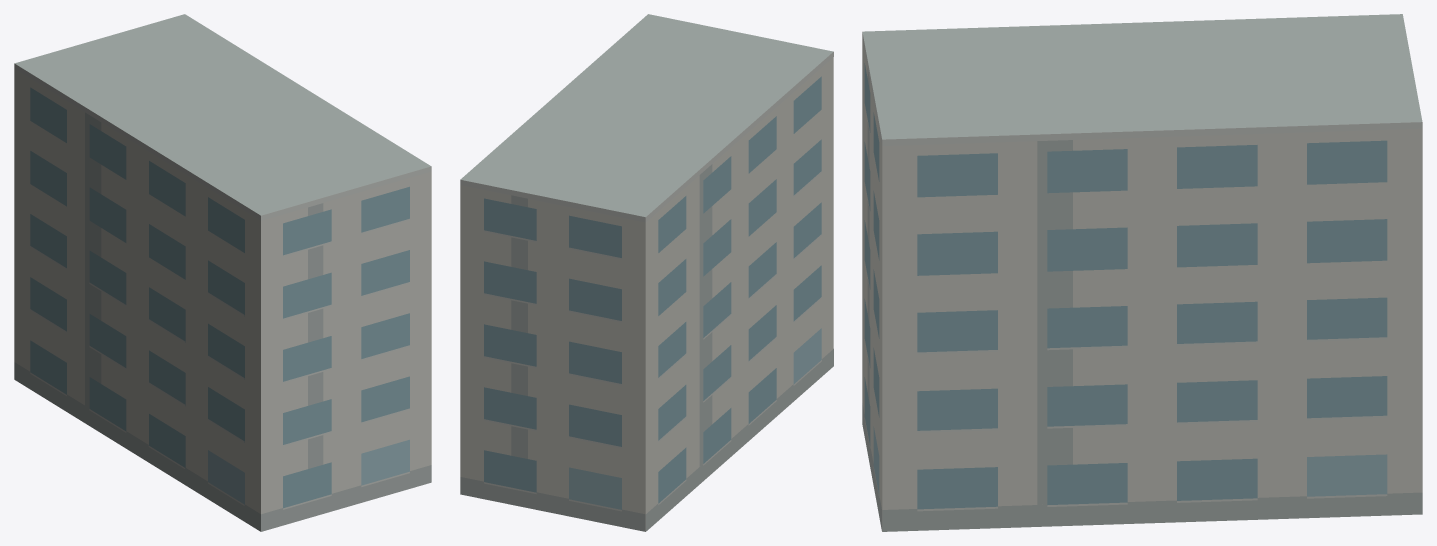
File: survey-upis-32620389.glb
3 views of the same model, side by side, from view 1: azimuth 30°, elevation 25°; view 2: azimuth 150°, elevation 25°; view 3: azimuth 270°, elevation 25° (orthographic). The views are drawn at different scales.
Visible parts, largest first — view 1: survey-upis-32620389.tmp; view 2: survey-upis-32620389.tmp; view 3: survey-upis-32620389.tmp.
Part boxes in pixels (x1=…): survey-upis-32620389.tmp: x1=14, y1=14, x2=431, y2=531; survey-upis-32620389.tmp: x1=460, y1=14, x2=833, y2=531; survey-upis-32620389.tmp: x1=862, y1=14, x2=1422, y2=531.
Bounding box in the file's own units: 9.96 × 14.5 × 18.77.
